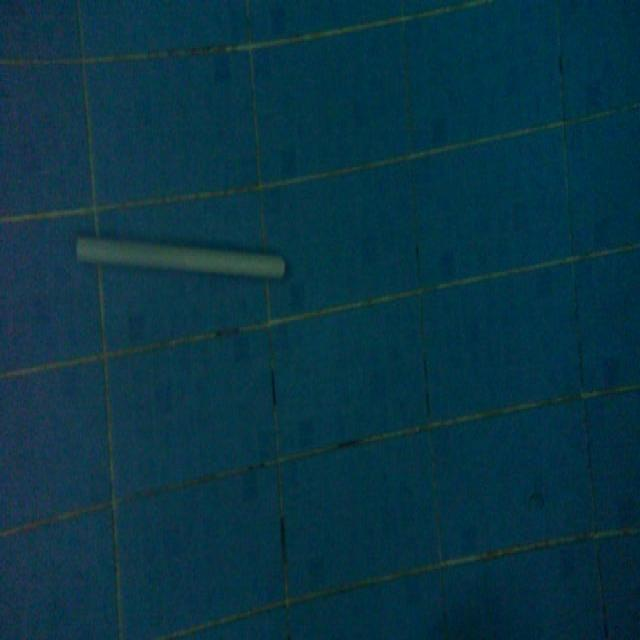Cube: (74, 228, 287, 284)
